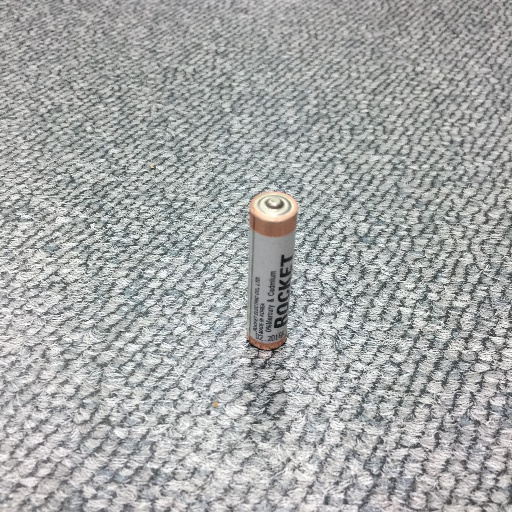Battery_0: (239, 185, 300, 357)
